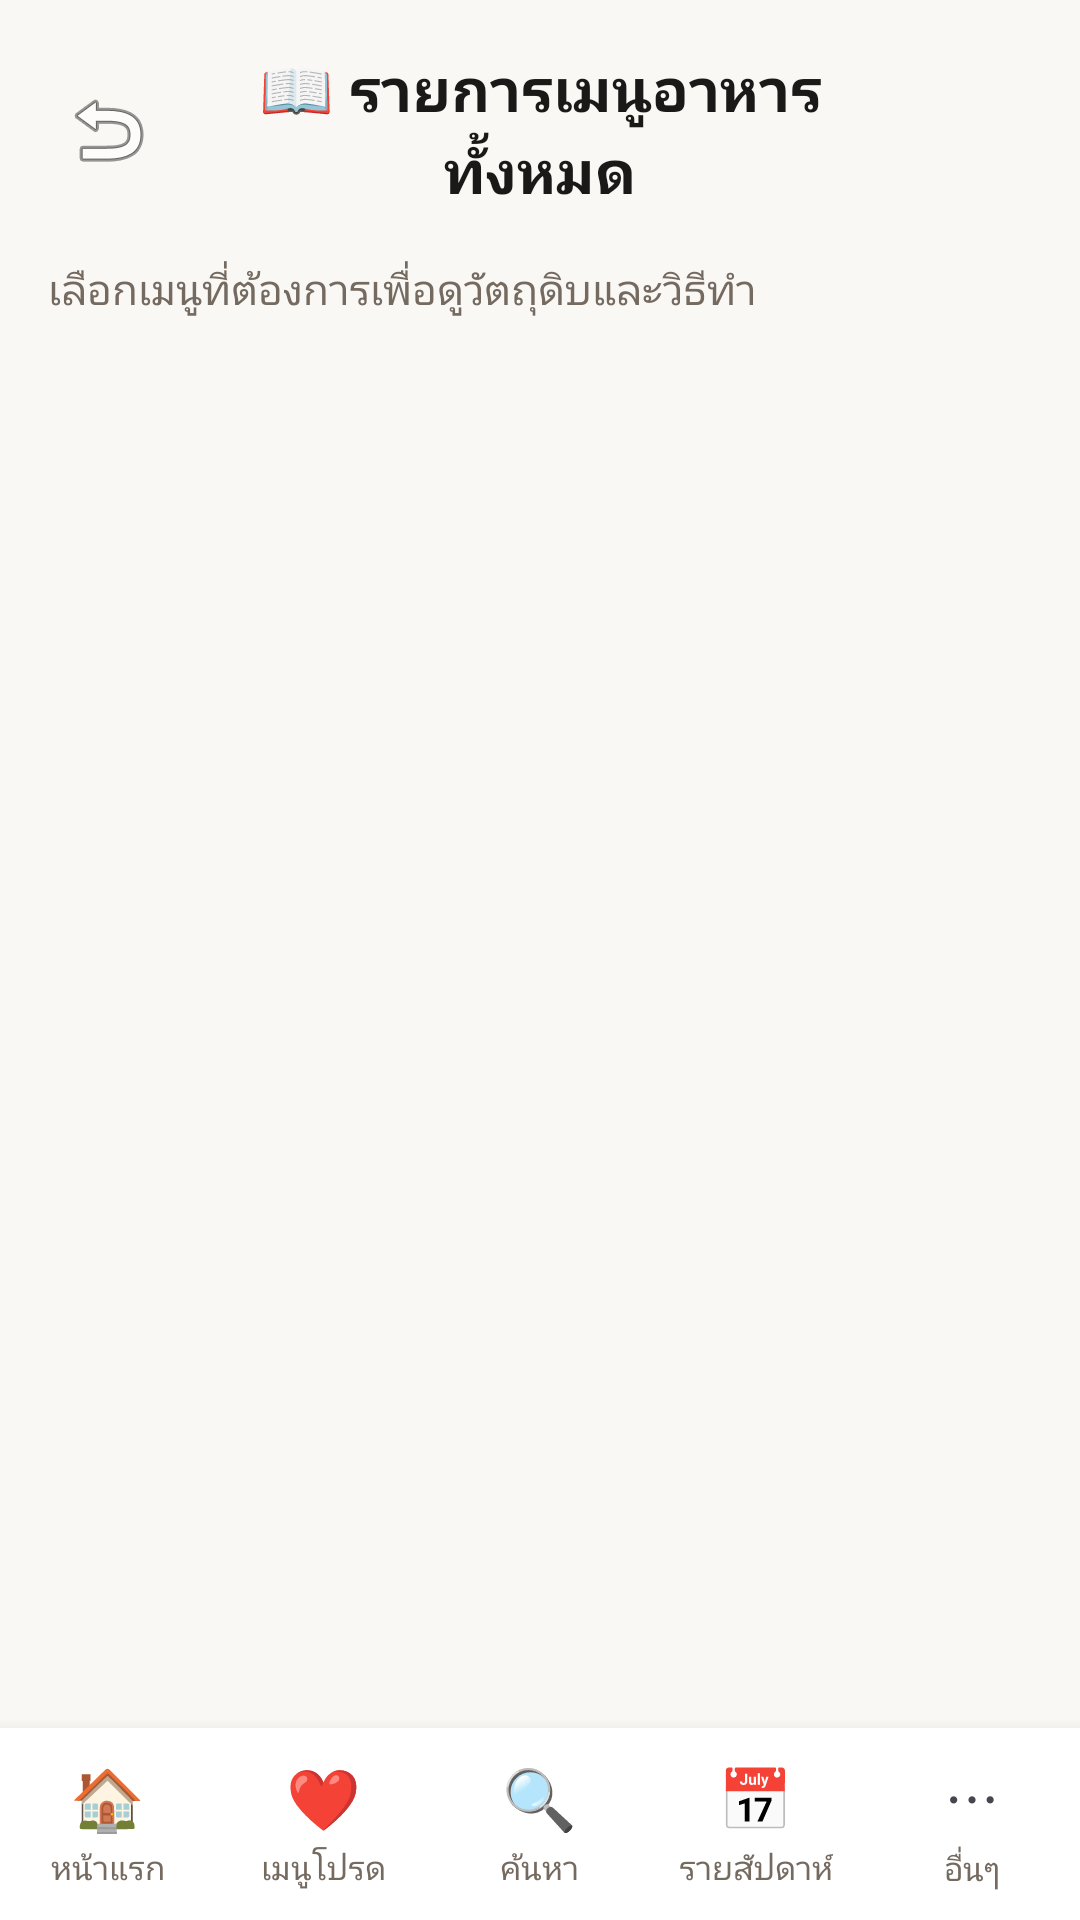

Named icons in this screenshot (1080*1920) and their centers, [x,y]:
Back: [109,130]
